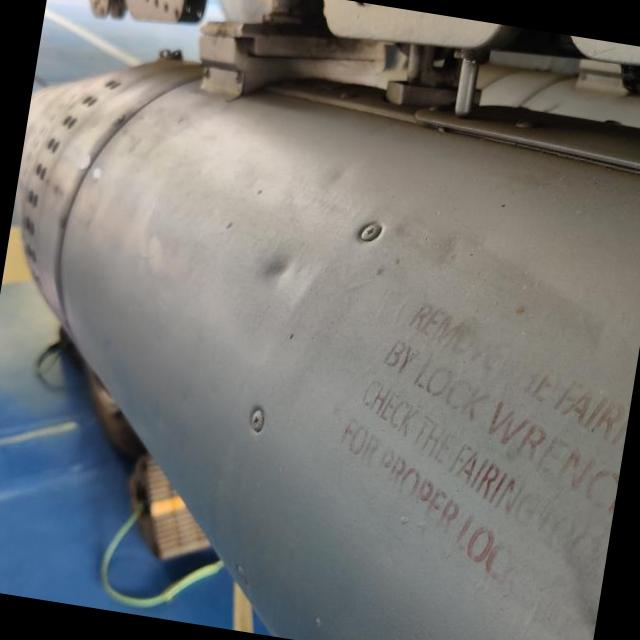Dent: (251, 241, 321, 310)
